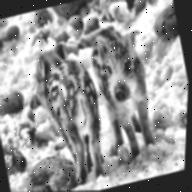boar: (63, 7, 192, 157), (14, 34, 125, 179)
